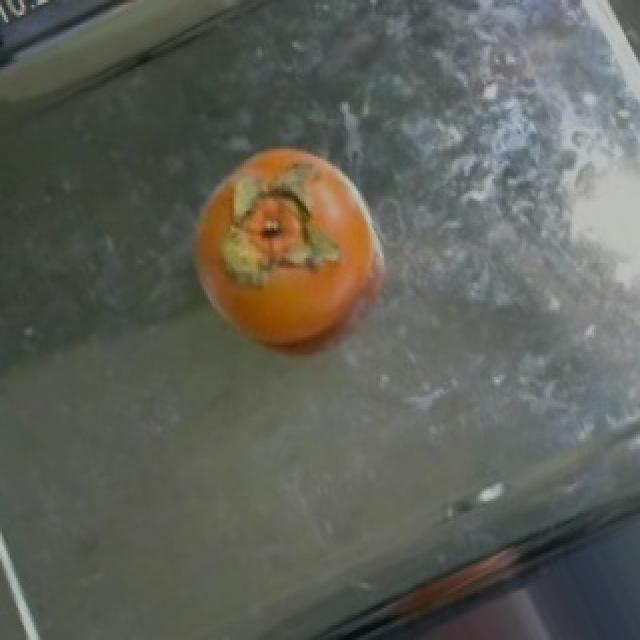Fruit: (172, 139, 414, 382)
